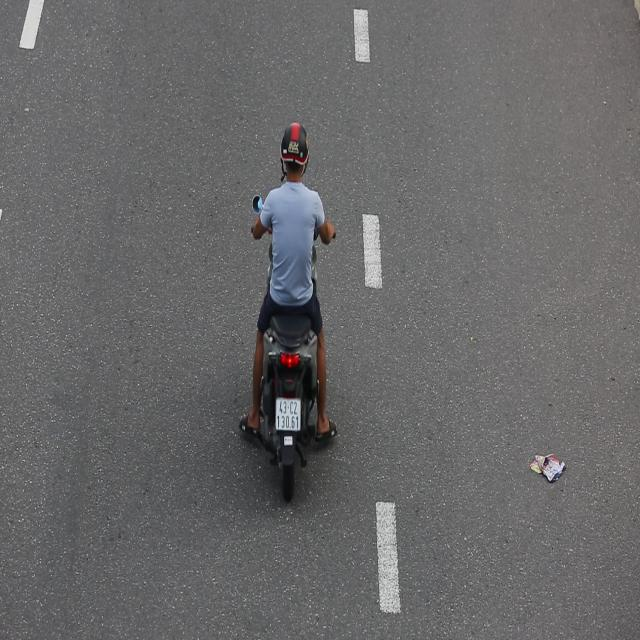motorbike: (240, 116, 336, 502)
